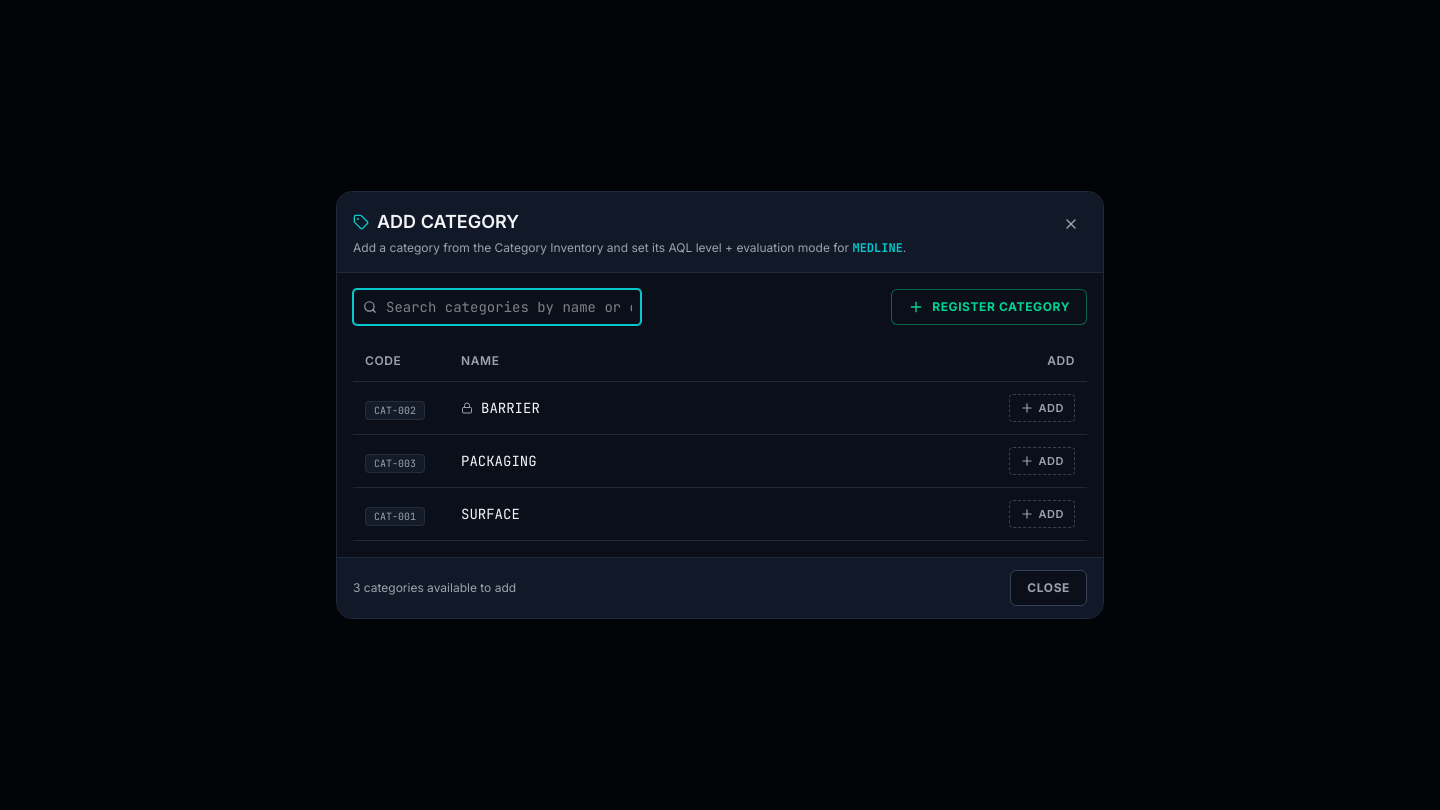
Scenario: CategoryPickerModal — add flow › available row shows "+ ADD"; picking it reveals AQL + Eval Mode selectors
The image size is (1440, 810).
Check: the text "SURFACE" is shown, box top-left (461, 504), bottom-right (520, 524)
Click the button "ADD" in the row of "CAT-001".
click(1042, 514)  # box top-left (1010, 500), bottom-right (1075, 528)
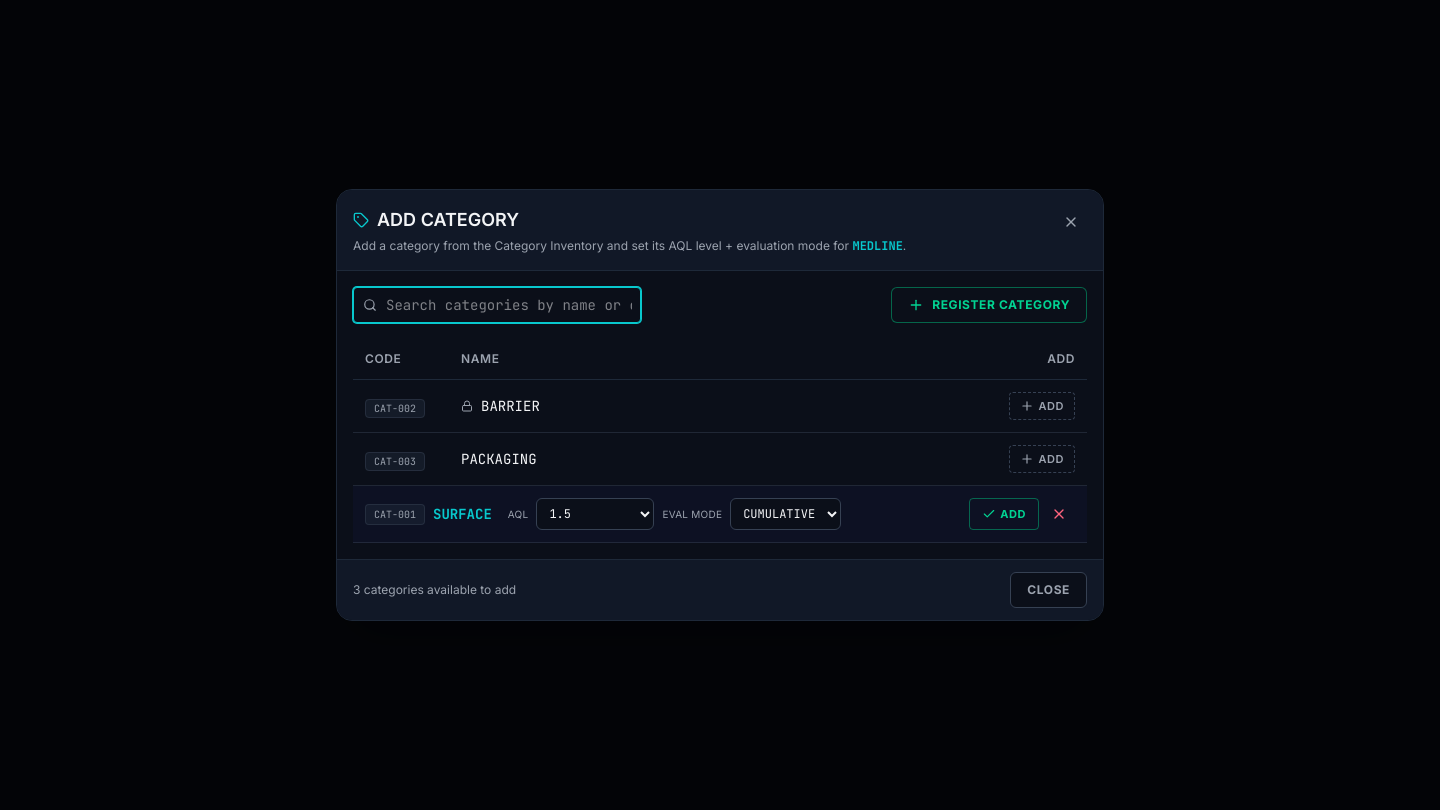
Check: the number of dropdowns is 2, box top-left (536, 498), bottom-right (654, 530); top-left (730, 498), bottom-right (841, 530)
